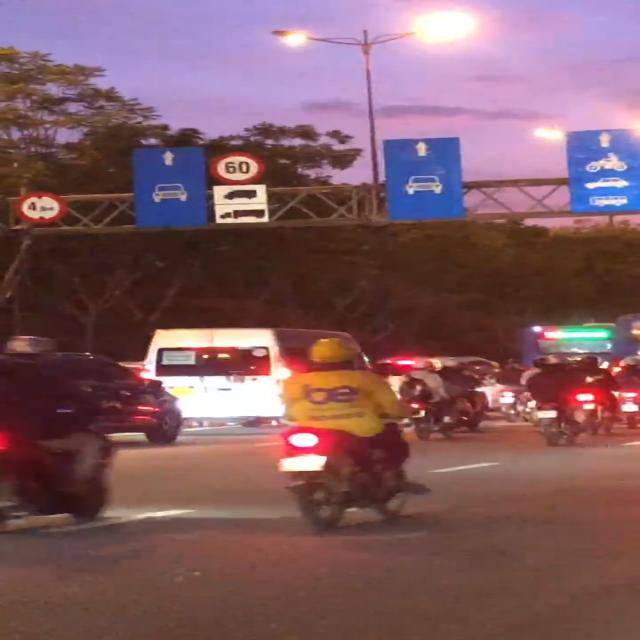Bien bao han che chieu cao: (11, 188, 72, 226)
Bien bao toc do toi da cho phep: (205, 147, 272, 184)
